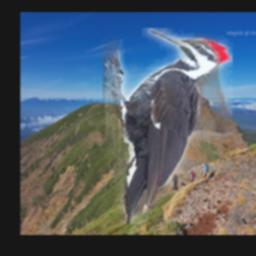Woodpecker: (103, 28, 233, 225)
